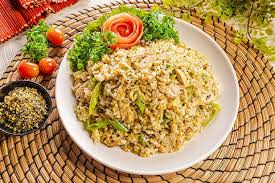Nasi goreng: (68, 38, 222, 159)
